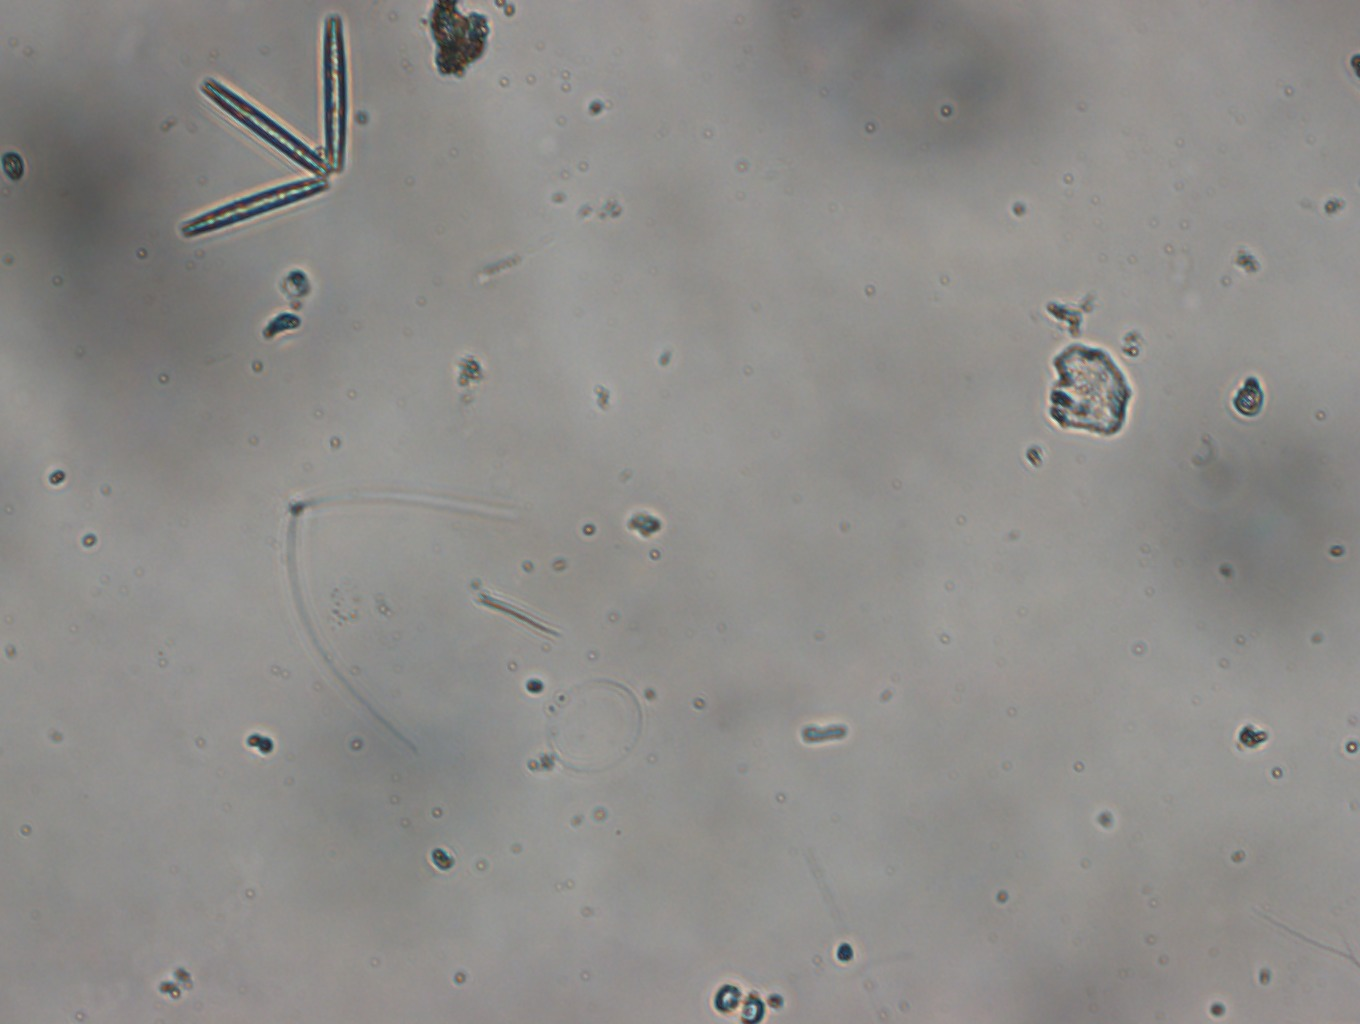thalassionema nitzschioides: (172, 8, 361, 246)
